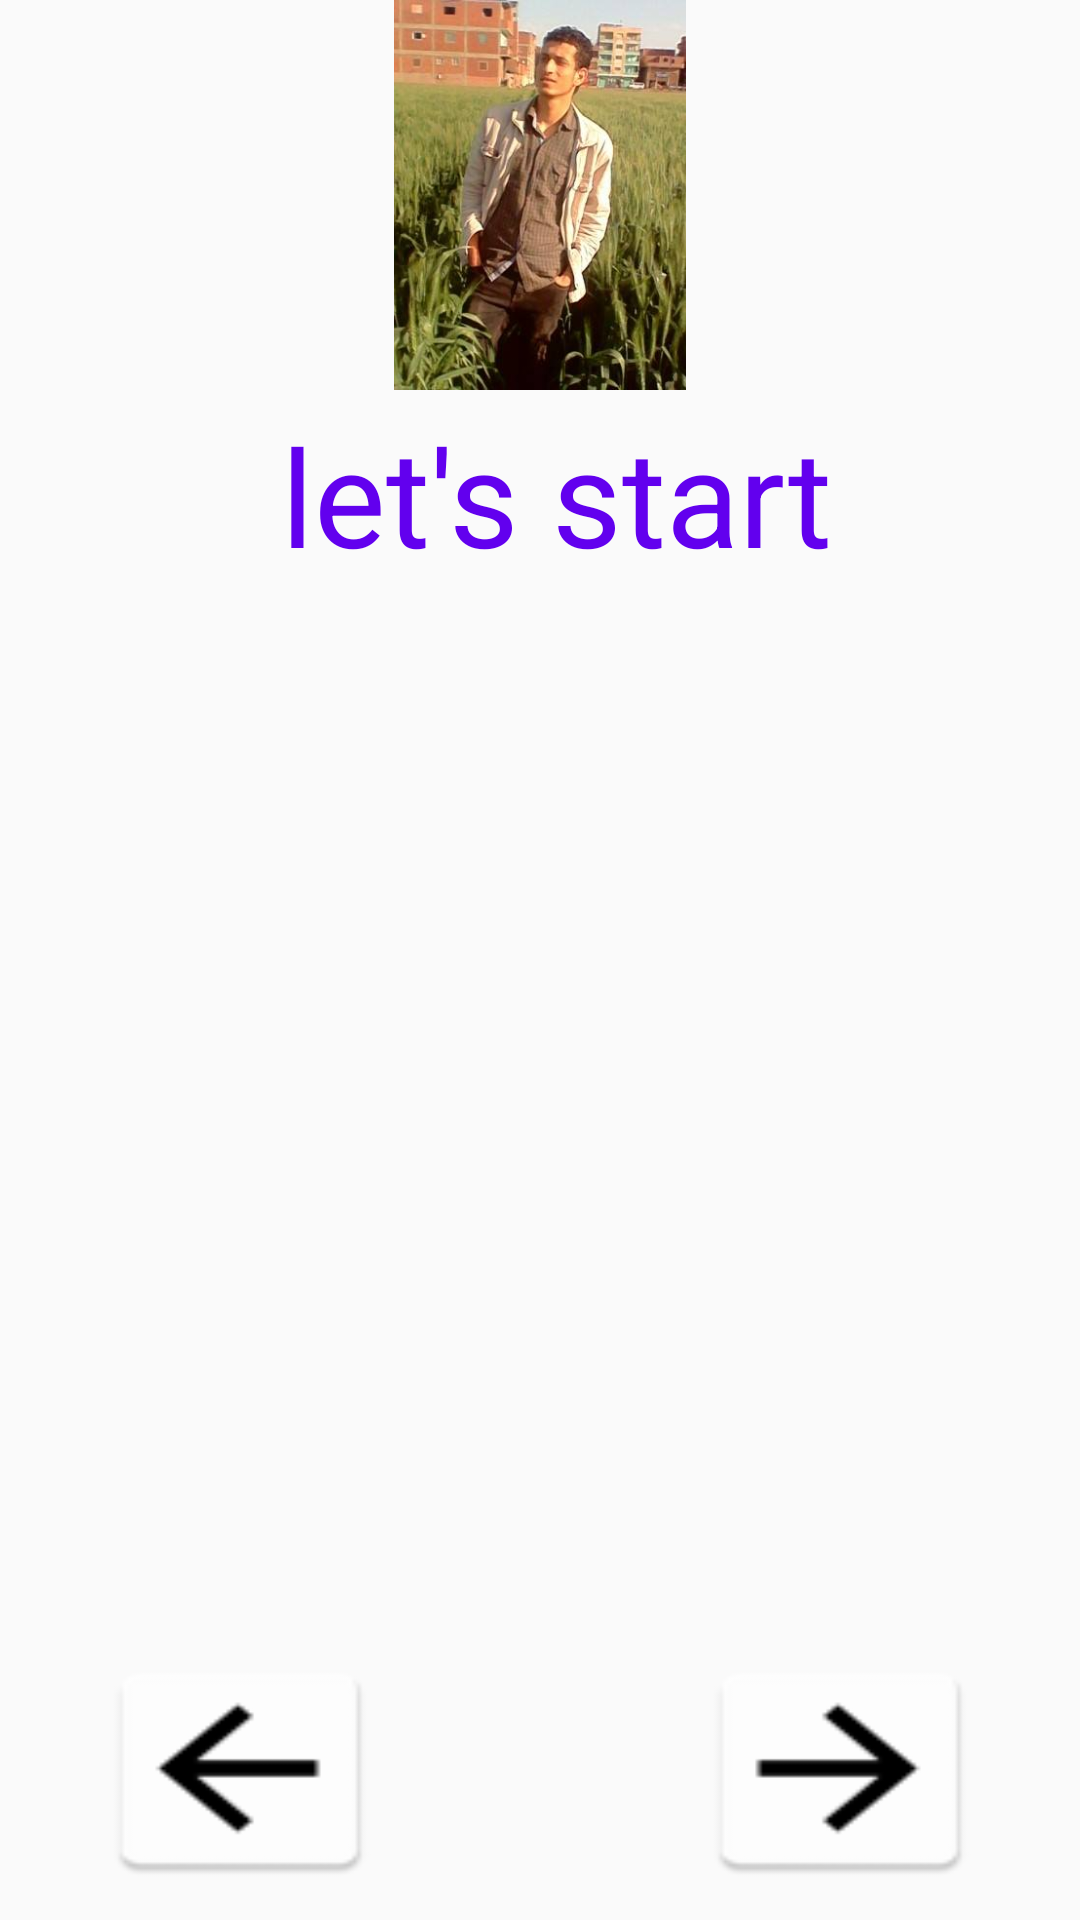

Icons on this 1080×1920 Android screen, each with its box as (x1, y1, x2, y2):
back: (123, 1702, 360, 1871)
next: (723, 1702, 960, 1871)
